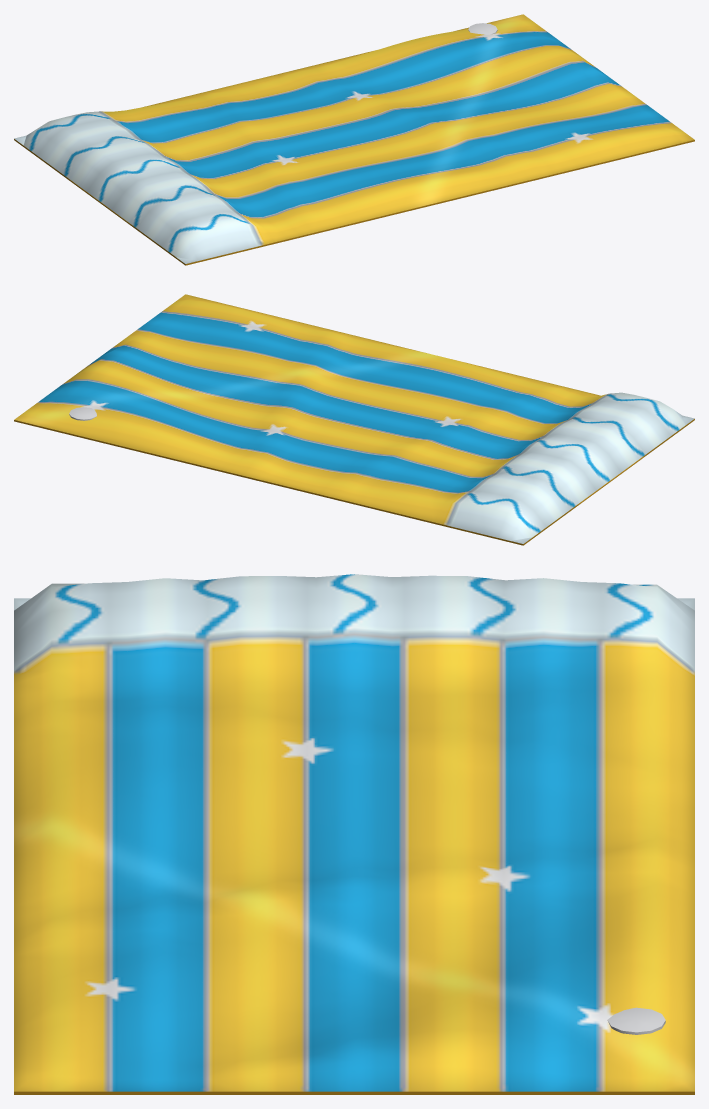
File: pool_air_mattress_deflated.glb
The picture shows the model from 3 angles, top to bottom: view 1: azimuth 30°, elevation 25°; view 2: azimuth 150°, elevation 25°; view 3: azimuth 270°, elevation 25°; orthographic projection. The views are drawn at different scales.
Parts seen in each view (by area): view 1: pool_air_mattress_deflated_LOD0; view 2: pool_air_mattress_deflated_LOD0; view 3: pool_air_mattress_deflated_LOD0.
Part boxes in pixels (<box>): pool_air_mattress_deflated_LOD0: <box>14,14,694,265</box>; pool_air_mattress_deflated_LOD0: <box>14,294,694,545</box>; pool_air_mattress_deflated_LOD0: <box>14,574,694,1094</box>.
Size of the model in its own units: 12 by 0.6 by 7.
Materials: 1 (1 with a texture image).
